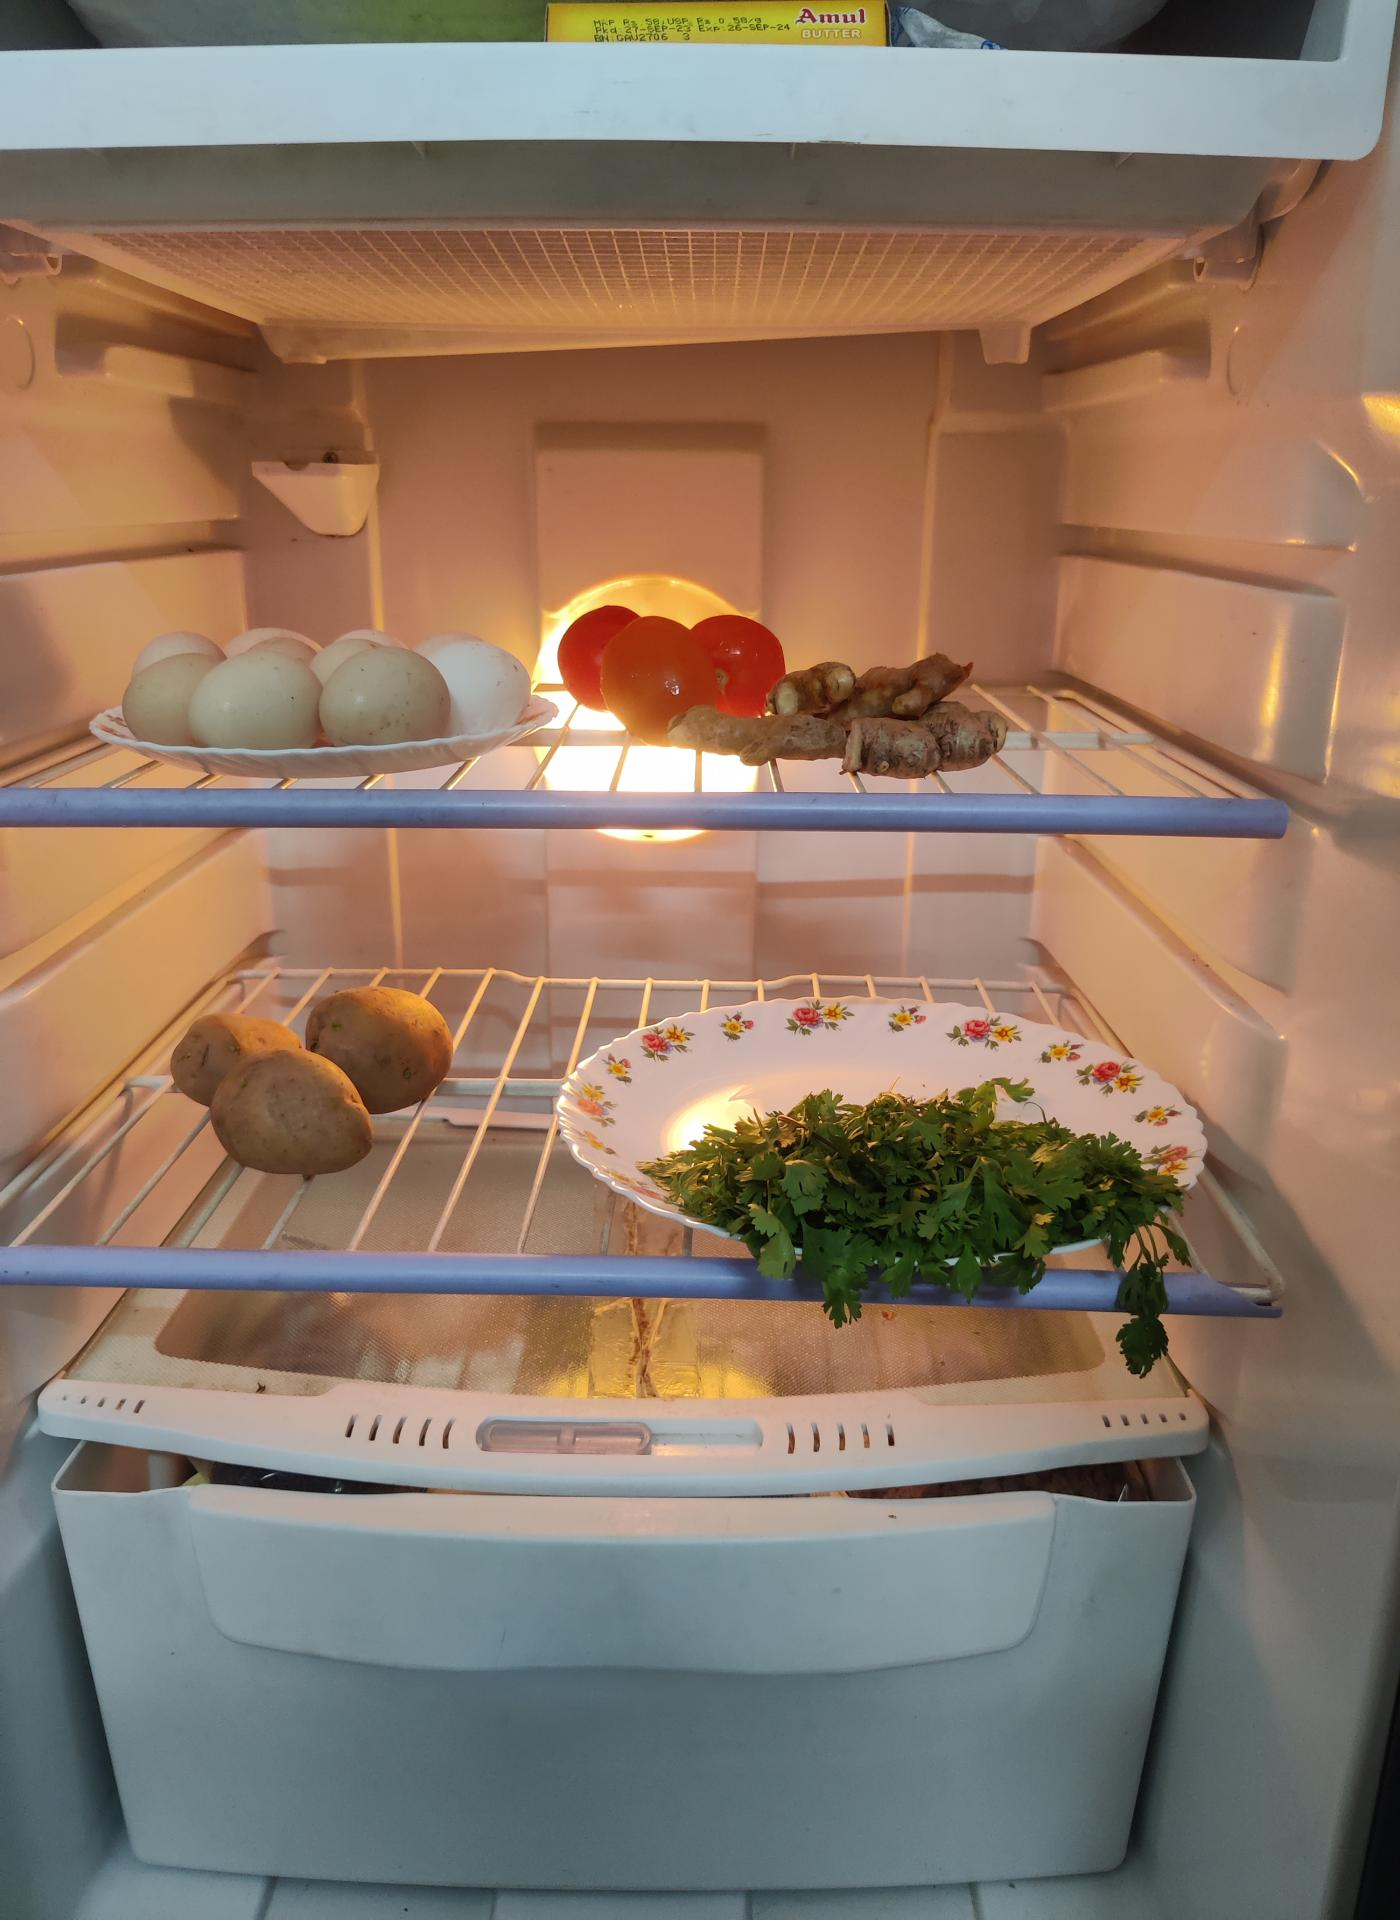coriander: (649, 1084, 1187, 1289)
egg: (119, 637, 522, 765)
ginger: (747, 653, 1006, 781)
potato: (185, 985, 452, 1172)
tomato: (553, 598, 790, 721)
